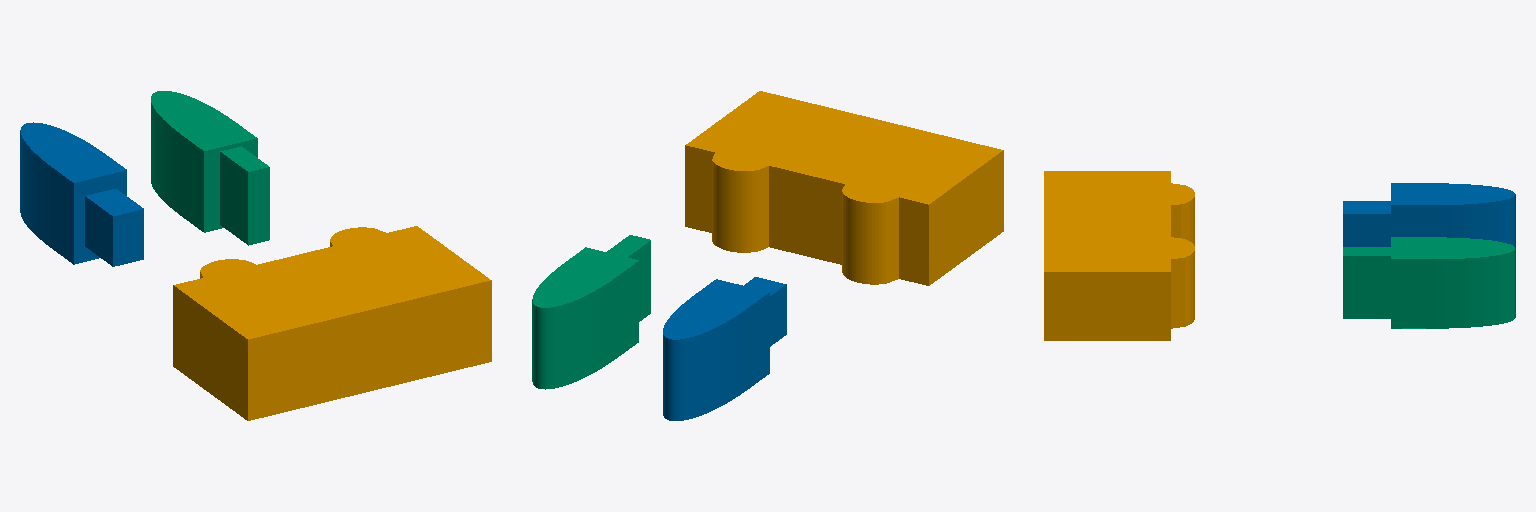
URDF robot description (2v2_hand):
<?xml version="1.0" ?>
<robot name="2v2_hand">

    <link name="palm">
        <visual>
            <origin rpy="0 0 0" xyz="0 0 0"/>
            <geometry>
                <mesh filename="obj_files/palm.obj" scale="1 1 1"/>
            </geometry>
        </visual>
        <collision>
            <geometry>
                <mesh filename="obj_files/palm_collision.obj" scale="1 1 1"/>
            </geometry>
        </collision>
    </link>

    <link name="finger0_segment0">
        <visual>
            <origin rpy="0 0 0" xyz="0 0 0"/>
            <geometry>
                <mesh filename="obj_files/finger0_segment0.obj" scale="1 1 1"/>
            </geometry>
        </visual>
        <collision>
            <geometry>
                <mesh filename="obj_files/finger0_segment0_collision.obj" scale="1 1 1"/>
            </geometry>
        </collision>
    </link>

    <joint name="finger0_segment0_joint" type="revolute">
        <parent link="palm"/>
        <child link="finger0_segment0"/>
        <origin rpy="0 0 0" xyz="0.02675 0 0.0"/>
        <axis xyz="0 0 1"/>
        <limit effort="1000.0" lower="-3.14" upper="3.14" velocity="0.5"/>
    </joint>

    <link name="finger0_segment1">
        <visual>
            <origin rpy="0 0 0" xyz="0 0 0"/>
            <geometry>
                <mesh filename="obj_files/finger0_segment1.obj" scale="1 1 1"/>
            </geometry>
        </visual>
        <collision>
            <geometry>
                <mesh filename="obj_files/finger0_segment1_collision.obj" scale="1 1 1"/>
            </geometry>
        </collision>
    </link>

    <joint name="finger0_segment1_joint" type="revolute">
        <parent link="finger0_segment0"/>
        <child link="finger0_segment1"/>
        <origin rpy="0 0 0" xyz="0 0.072 0"/>
        <axis xyz="0 0 1"/>
        <limit effort="1000.0" lower="-3.14" upper="3.14" velocity="0.5"/>
    </joint>

    <link name="finger1_segment0">
        <visual>
            <origin rpy="0 0 0" xyz="0 0 0"/>
            <geometry>
                <mesh filename="obj_files/finger1_segment0.obj" scale="1 1 1"/>
            </geometry>
        </visual>
        <collision>
            <geometry>
                <mesh filename="obj_files/finger1_segment0_collision.obj" scale="1 1 1"/>
            </geometry>
        </collision>
    </link>

    <joint name="finger1_segment0_joint" type="revolute">
        <parent link="palm"/>
        <child link="finger1_segment0"/>
        <origin rpy="0 0 0" xyz="-0.02675 0 3.27593018771917e-18"/>
        <axis xyz="0 0 1"/>
        <limit effort="1000.0" lower="-3.14" upper="3.14" velocity="0.5"/>
    </joint>

    <link name="finger1_segment1">
        <visual>
            <origin rpy="0 0 0" xyz="0 0 0"/>
            <geometry>
                <mesh filename="obj_files/finger1_segment1.obj" scale="1 1 1"/>
            </geometry>
        </visual>
        <collision>
            <geometry>
                <mesh filename="obj_files/finger1_segment1_collision.obj" scale="1 1 1"/>
            </geometry>
        </collision>
    </link>

    <joint name="finger1_segment1_joint" type="revolute">
        <parent link="finger1_segment0"/>
        <child link="finger1_segment1"/>
        <origin rpy="0 0 0" xyz="0 0.072 0"/>
        <axis xyz="0 0 1"/>
        <limit effort="1000.0" lower="-3.14" upper="3.14" velocity="0.5"/>
    </joint>

</robot>

--- Facts derived from the render (not from the file) ---
3 views of the same robot in one strip: view 1: azimuth 30°, elevation 25°; view 2: azimuth 150°, elevation 25°; view 3: azimuth 270°, elevation 25° (orthographic).
Robot: 2v2_hand — 5 links, 4 joints (4 revolute); root link palm; default pose: all joints at 0.
Links seen in each view (by area): view 1: palm, finger0_segment1, finger1_segment1; view 2: palm, finger0_segment1, finger1_segment1; view 3: palm, finger0_segment1, finger1_segment1.
Boxes of the visible links, bbox=[...] form: palm: bbox=[173, 226, 491, 420]; finger0_segment1: bbox=[151, 91, 269, 245]; finger1_segment1: bbox=[20, 122, 143, 266]; palm: bbox=[685, 91, 1003, 285]; finger0_segment1: bbox=[532, 235, 650, 389]; finger1_segment1: bbox=[663, 277, 786, 420]; palm: bbox=[1044, 171, 1194, 340]; finger0_segment1: bbox=[1343, 237, 1515, 328]; finger1_segment1: bbox=[1343, 183, 1515, 247].
Size in the robot's own frame: 0.1 by 0.197 by 0.032 metres.
Meshes: 5 distinct files referenced, 3 mesh visuals loaded (3 OBJ); not drawn: 2 (reference not matched to a file when rendering).